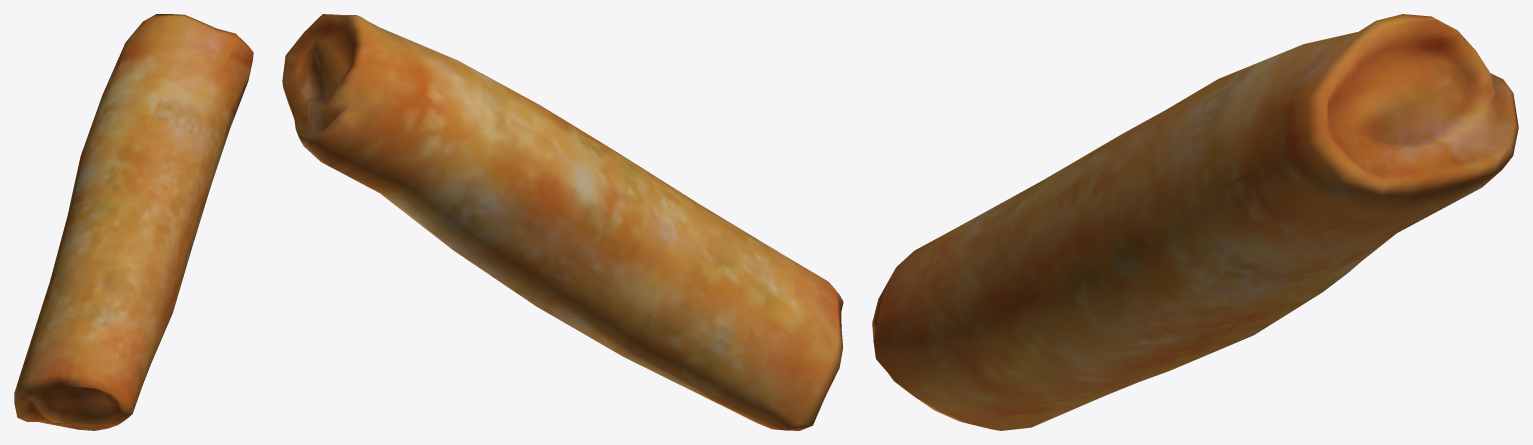
The model's file is BFSpringRoll.obj.
3 renders of one model, left to right at view 1: azimuth 30°, elevation 25°; view 2: azimuth 150°, elevation 25°; view 3: azimuth 270°, elevation 25°, orthographic. The views are drawn at different scales.
Visible parts, largest first — view 1: chunjuan; view 2: chunjuan; view 3: chunjuan.
Part boxes in pixels (x1,y1,x2,y2): chunjuan: (14, 14, 253, 430); chunjuan: (282, 14, 843, 430); chunjuan: (872, 14, 1518, 430).
Bounding box in the file's own units: 1.37 × 1.25 × 1.24.
